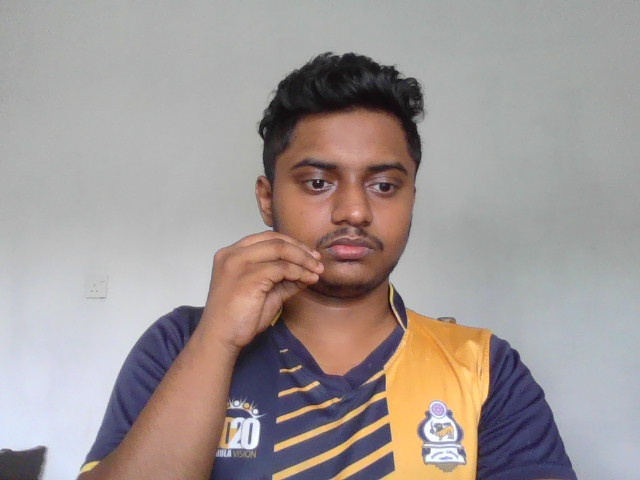Eat: (207, 229, 341, 345)
